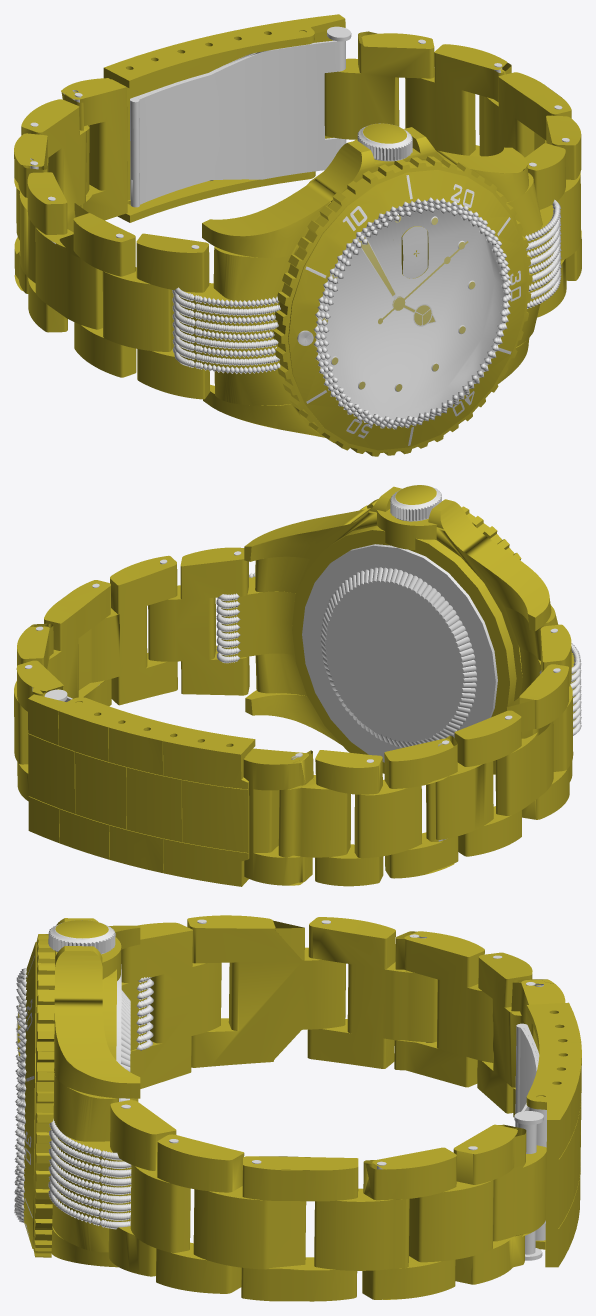
The model's file is watch2.glb.
The picture shows the model from 3 angles, top to bottom: view 1: azimuth 30°, elevation 25°; view 2: azimuth 150°, elevation 25°; view 3: azimuth 270°, elevation 25°; orthographic projection. The views are drawn at different scales.
Visible parts, largest first — view 1: watch, diamond; view 2: watch, diamond; view 3: watch, diamond.
Boxes of the visible parts, left/top/right/bottom form: watch: left=14, top=14, right=581, bottom=456; diamond: left=172, top=197, right=561, bottom=429; watch: left=14, top=485, right=576, bottom=886; diamond: left=216, top=572, right=581, bottom=735; watch: left=16, top=915, right=581, bottom=1301; diamond: left=14, top=968, right=153, bottom=1229.
Bounding box in the file's own units: 0.197 × 0.1144 × 0.1863.
